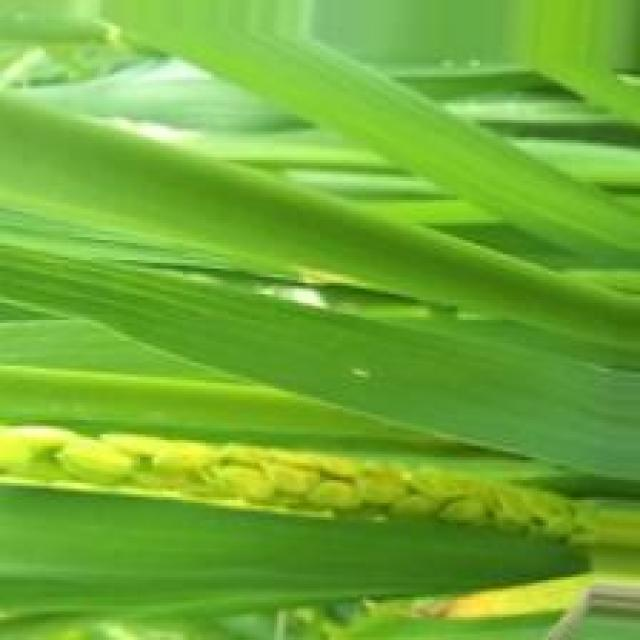HealthyLeaf: (68, 261, 633, 479), (56, 495, 353, 610)
